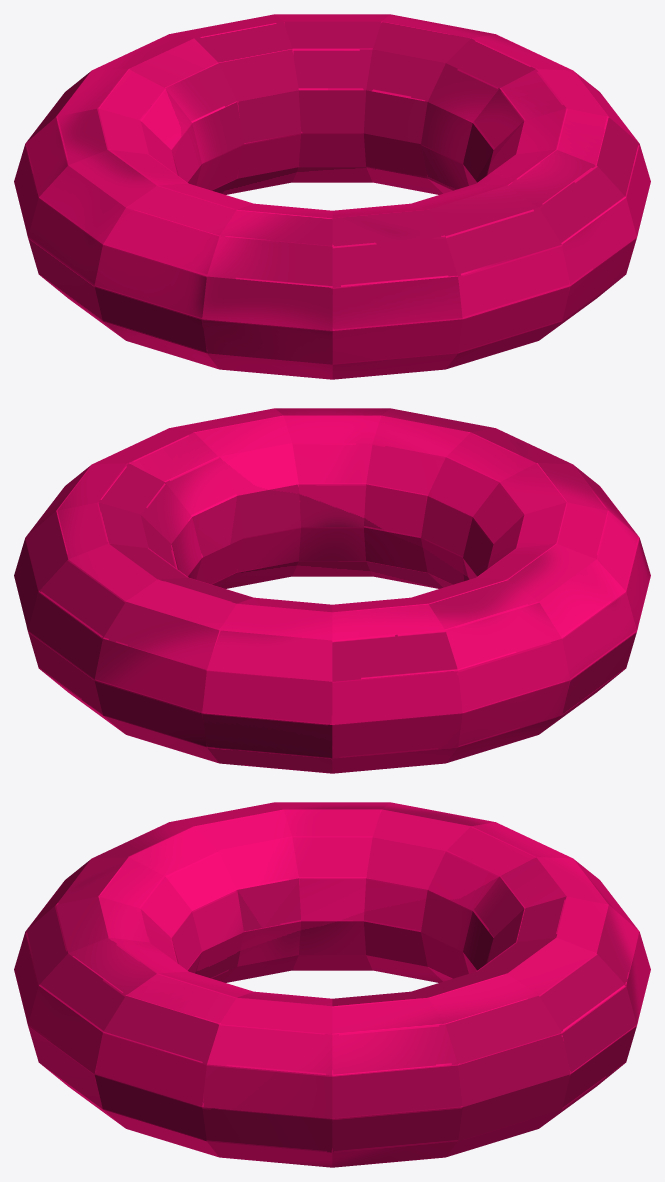
Rendered from flotador1.obj.
The picture shows the model from 3 angles, top to bottom: view 1: azimuth 30°, elevation 25°; view 2: azimuth 150°, elevation 25°; view 3: azimuth 270°, elevation 25°; orthographic projection.
Visible parts, largest first — view 1: Torus.004; view 2: Torus.004; view 3: Torus.004.
Boxes of the visible parts, x1,y1,x2,y2 form: Torus.004: (14,14,650,379); Torus.004: (14,408,650,773); Torus.004: (14,802,650,1167).
Bounding box in the file's own units: 3.66 × 0.98 × 3.68.
Materials: 1 (1 with a texture image).
